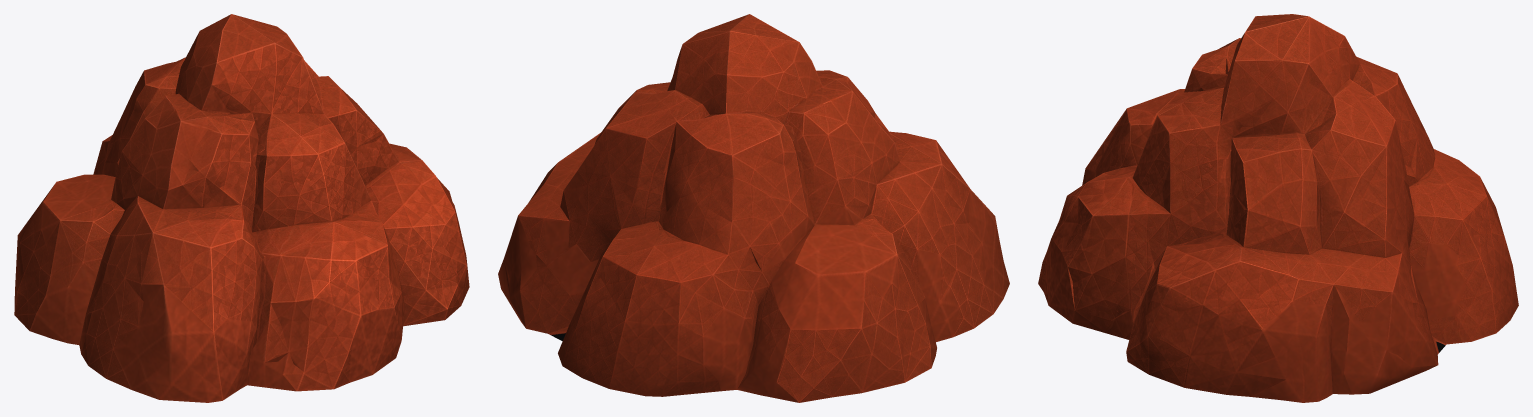
File: desert_medium_1.glb
The picture shows the model from 3 angles, left to right: view 1: azimuth 30°, elevation 25°; view 2: azimuth 150°, elevation 25°; view 3: azimuth 270°, elevation 25°; orthographic projection. The views are drawn at different scales.
Visible parts, largest first — view 1: output_unwrapped; view 2: output_unwrapped; view 3: output_unwrapped.
Boxes of the visible parts, x1,y1,x2,y2 form: output_unwrapped: (14,14,469,402); output_unwrapped: (498,14,1009,402); output_unwrapped: (1038,14,1518,402).
Size of the model in its own units: 1.9 by 1.22 by 1.89.
Materials: 1 (1 with a texture image).
